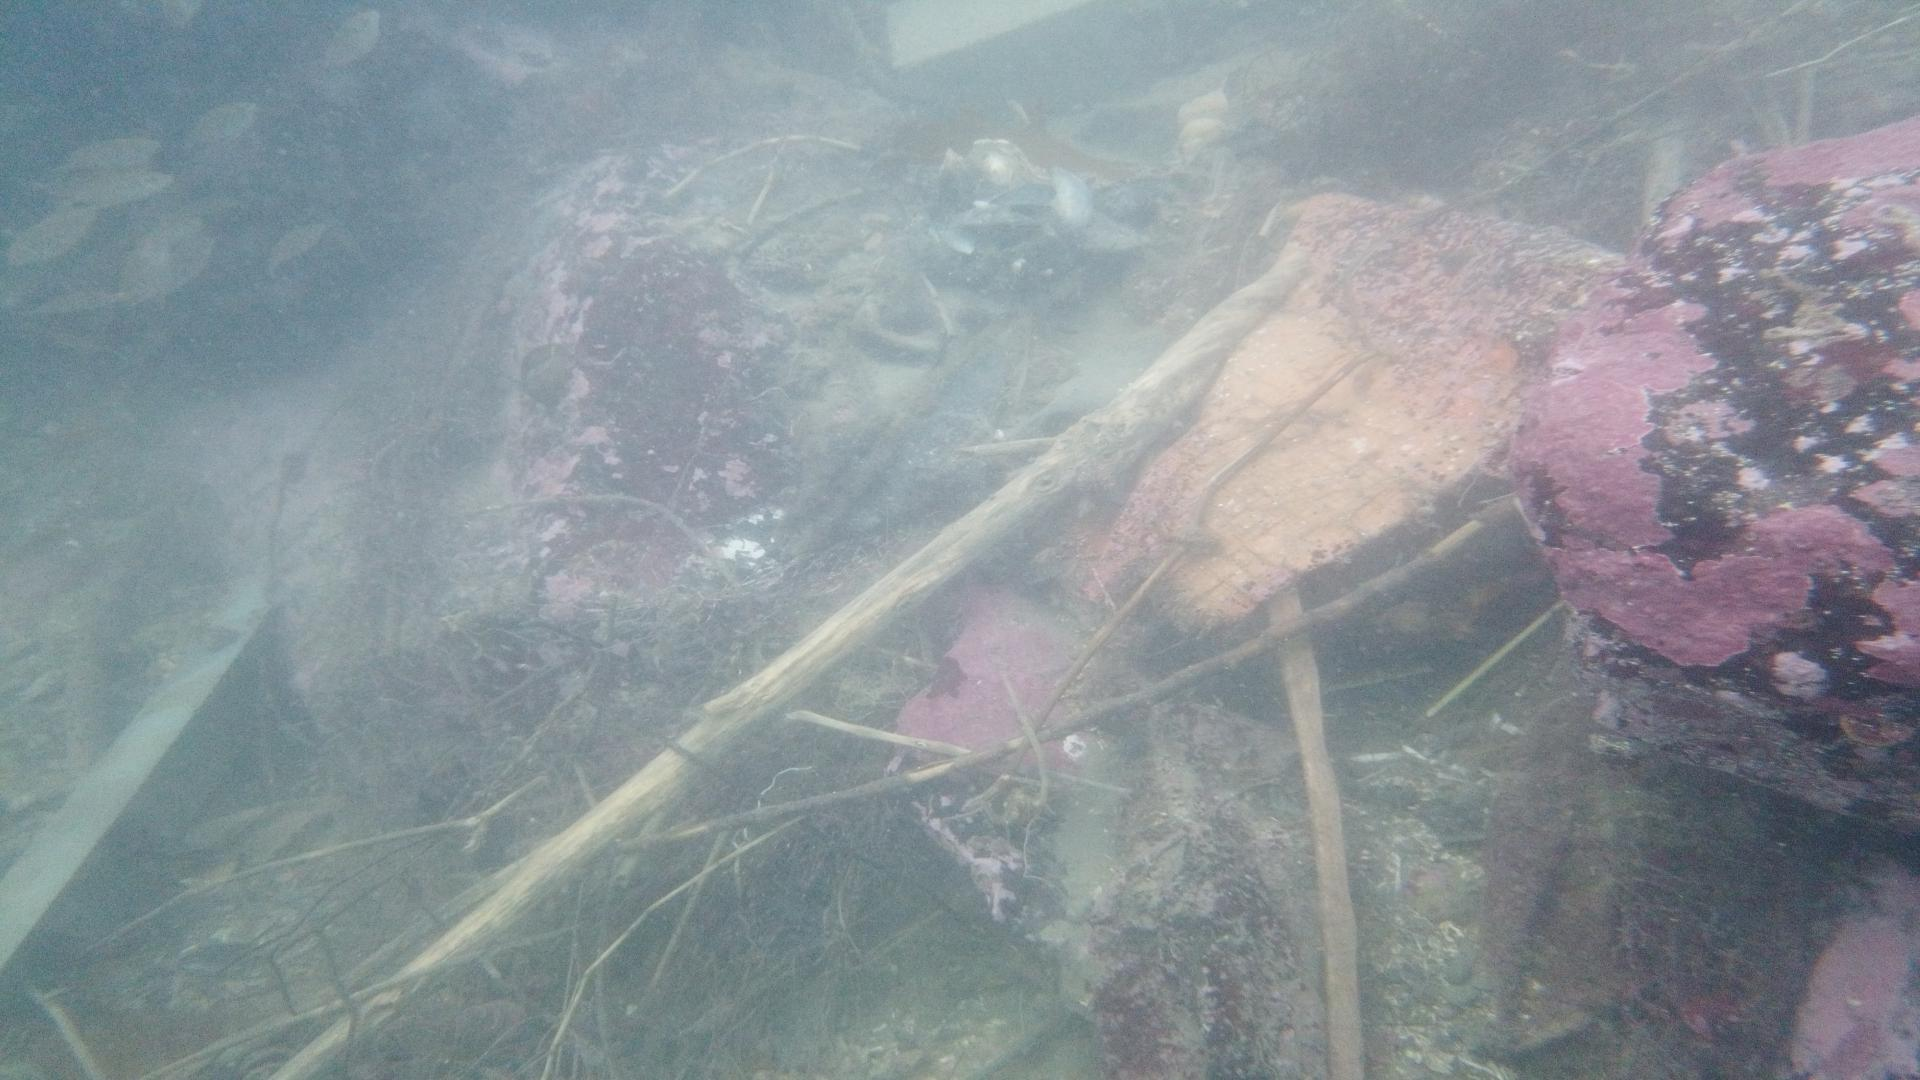wood: (265, 243, 1313, 1080), (0, 612, 265, 982), (1262, 580, 1364, 1080)
